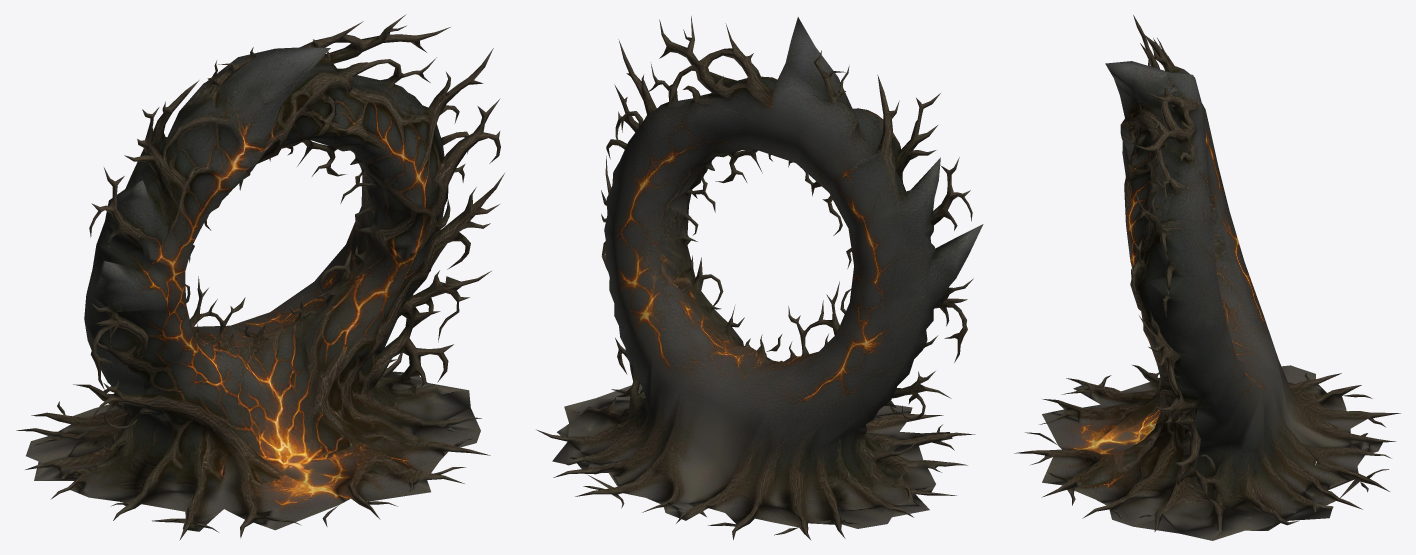
Rendered from 019f5bcd-8cce-7107-b395-c0f134d514b6.glb.
3 views of the same model, side by side, from view 1: azimuth 30°, elevation 25°; view 2: azimuth 150°, elevation 25°; view 3: azimuth 270°, elevation 25° (orthographic). The views are drawn at different scales.
Parts seen in each view (by area): view 1: tripo_node_2e93171e-05f5-47d9-8bfe-8c3125cccc60; view 2: tripo_node_2e93171e-05f5-47d9-8bfe-8c3125cccc60; view 3: tripo_node_2e93171e-05f5-47d9-8bfe-8c3125cccc60.
Boxes of the visible parts, <box> form: tripo_node_2e93171e-05f5-47d9-8bfe-8c3125cccc60: <box>16,14,504,540</box>; tripo_node_2e93171e-05f5-47d9-8bfe-8c3125cccc60: <box>536,16,983,539</box>; tripo_node_2e93171e-05f5-47d9-8bfe-8c3125cccc60: <box>1014,15,1400,540</box>.
Size of the model in its own units: 0.998 by 0.9746 by 0.877.
1 material, 1 textured.
